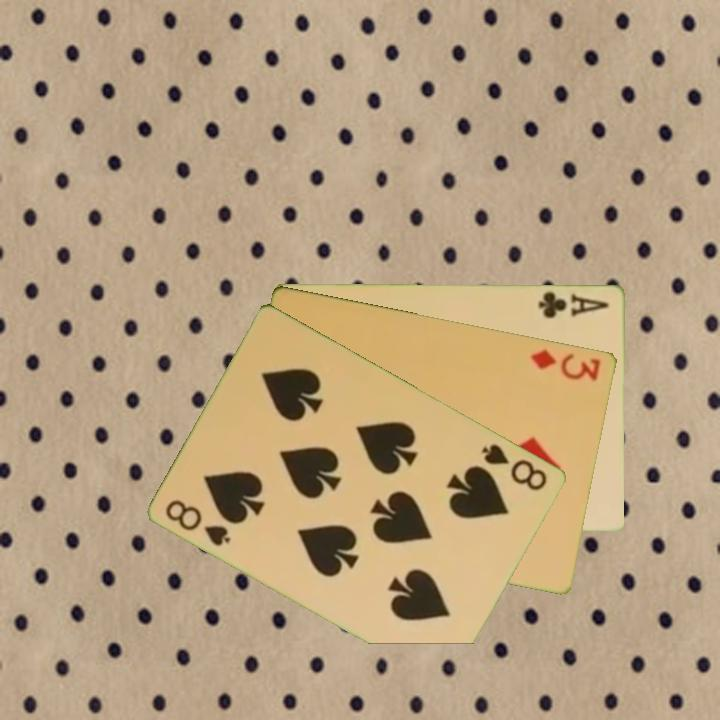3d: (528, 345, 604, 383)
8s: (478, 440, 551, 494), (162, 495, 235, 549)
Ac: (535, 288, 612, 321)
